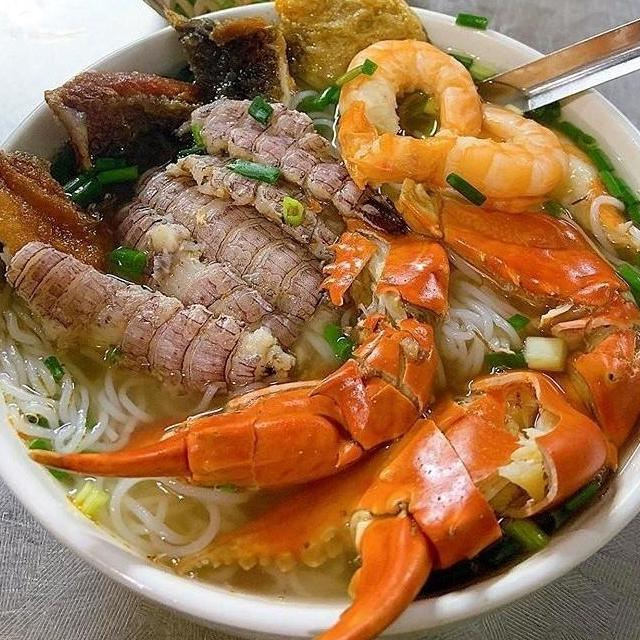bun: (0, 252, 223, 458), (58, 462, 256, 565), (424, 251, 542, 399)
bun hai san: (0, 0, 640, 640)
ca: (0, 90, 123, 294), (36, 62, 216, 180), (158, 4, 302, 125)
tom: (328, 91, 576, 208), (334, 33, 488, 159)
tom tit: (0, 237, 300, 403), (170, 92, 418, 246), (125, 163, 352, 325), (95, 189, 308, 356), (158, 145, 366, 269)
